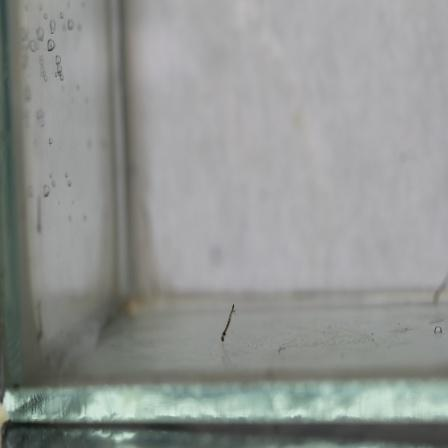Jentik-Nyamuk: (219, 303, 238, 345)
